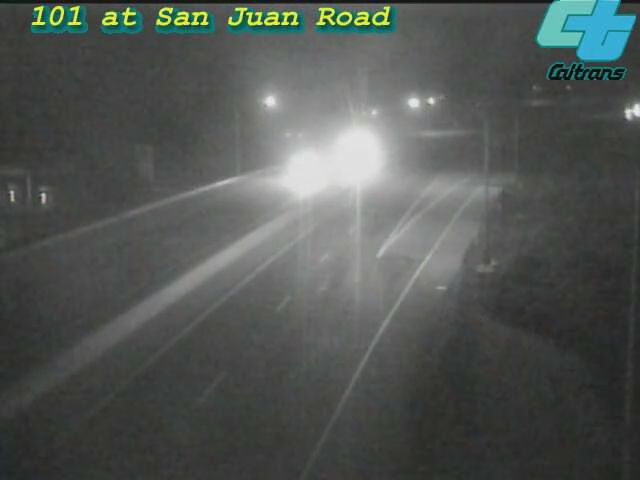vehicle: (261, 131, 341, 211), (312, 118, 392, 198), (605, 90, 640, 140)
